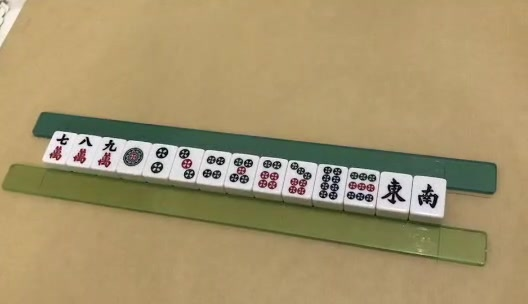1p: (122, 146, 144, 168)
1z: (380, 178, 405, 204)
2p: (150, 146, 169, 175)
2z: (416, 183, 440, 209)
3p: (178, 149, 195, 179)
4p: (203, 155, 224, 181)
5p: (228, 157, 254, 184)
6p: (258, 161, 281, 189)
7m: (50, 133, 68, 162)
7p: (286, 163, 312, 194)
8m: (73, 136, 93, 164)
8p: (318, 167, 340, 201)
9m: (96, 138, 118, 166)
9p: (348, 172, 376, 202)
